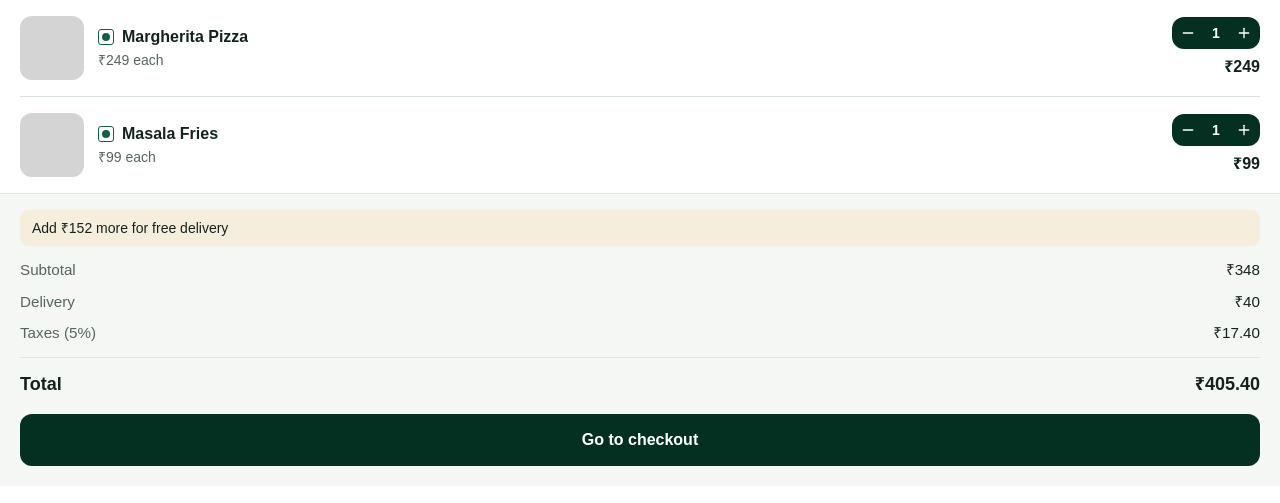
Test: CartPanel with items › removes a dish when its quantity is taken to zero
Click the button named "Remove Masala Fries" at (1188, 130), box [1172, 114, 1204, 146]
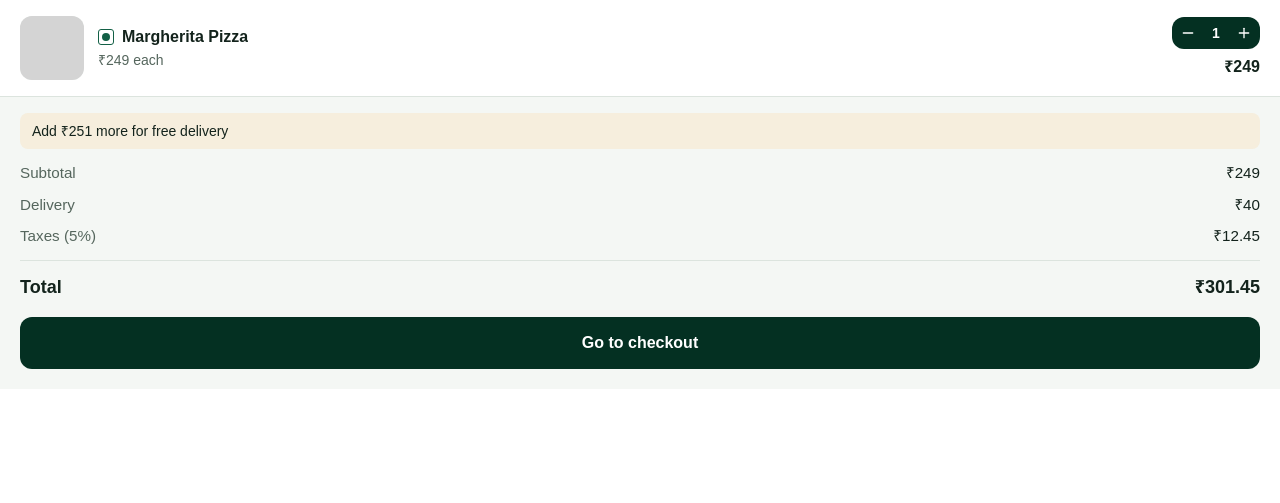
Now the text "Masala Fries" is gone
